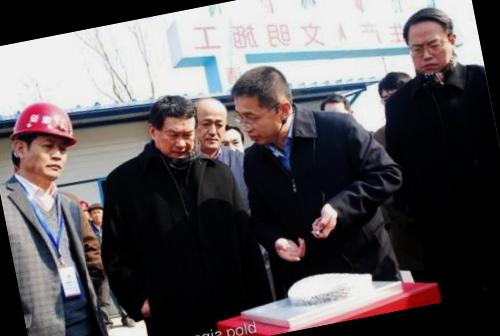no_helmet: (226, 58, 300, 152), (394, 0, 467, 80), (138, 87, 202, 164), (182, 91, 238, 156), (316, 89, 356, 136), (214, 119, 251, 168), (374, 64, 415, 106)
